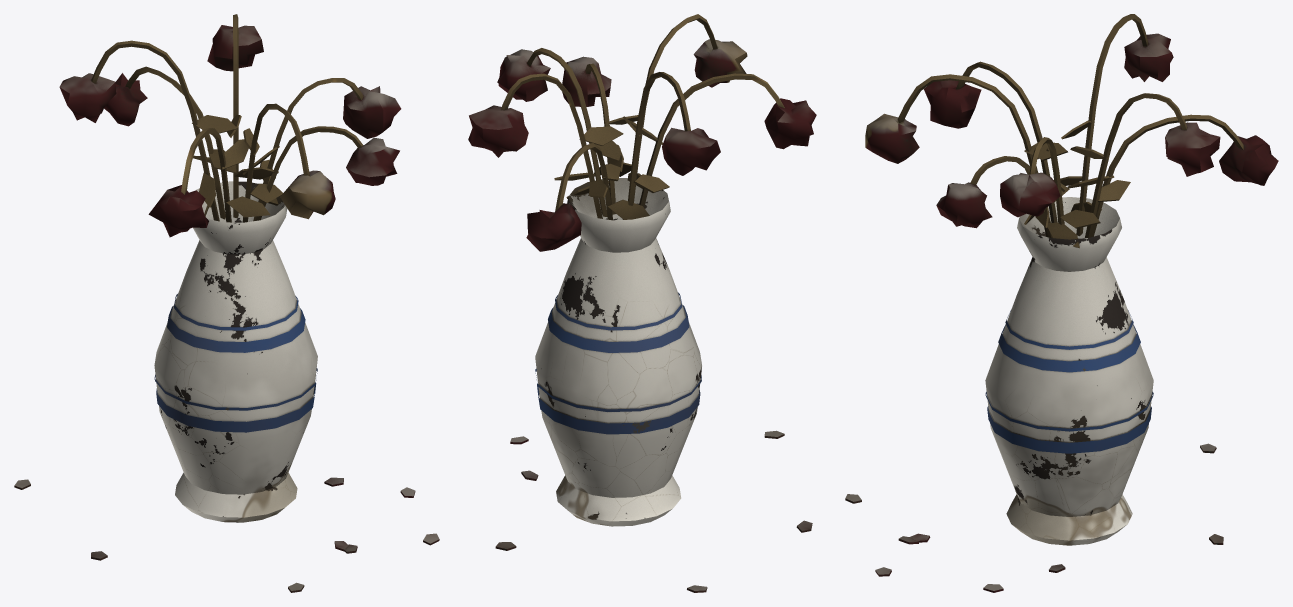
File: DeadFlowerVase.fbx
3 views of the same model, side by side, from view 1: azimuth 30°, elevation 25°; view 2: azimuth 150°, elevation 25°; view 3: azimuth 270°, elevation 25° (orthographic). The views are drawn at different scales.
Parts seen in each view (by area): view 1: DeadFlowerVase; view 2: DeadFlowerVase; view 3: DeadFlowerVase.
Boxes of the visible parts, bbox=[...] form: DeadFlowerVase: bbox=[14, 14, 439, 592]; DeadFlowerVase: bbox=[468, 14, 816, 592]; DeadFlowerVase: bbox=[845, 14, 1278, 592].
Bounding box in the file's own units: 1.04 × 1.48 × 1.24.
1 material, 1 textured.
